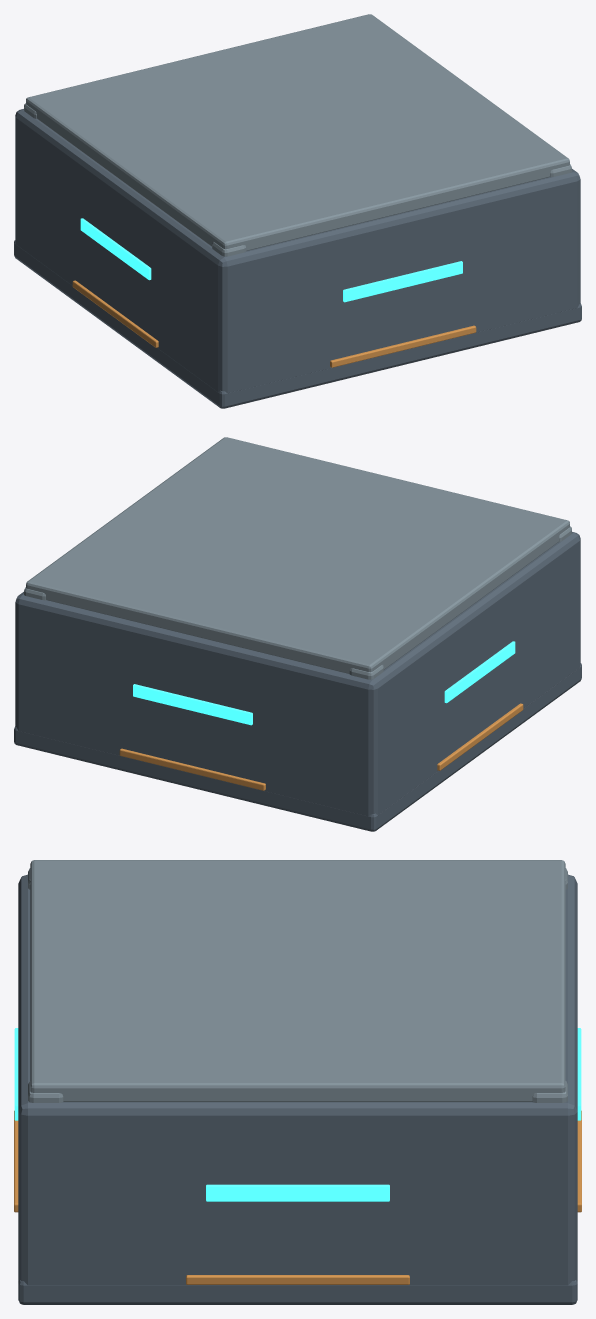
The model's file is arena-core.glb.
3 views of the same model, one above another, from view 1: azimuth 30°, elevation 25°; view 2: azimuth 150°, elevation 25°; view 3: azimuth 270°, elevation 25° (orthographic). The views are drawn at different scales.
Parts seen in each view (by area): view 1: Visual_Merged_ZA_Core_Root_Graphite_Paint, Visual_Merged_ZA_Core_Root_Neutral_Steel, Visual_Merged_ZA_Core_Root_Zero_Cyan_Emissive, Visual_Merged_ZA_Core_Root_Warning_Orange; view 2: Visual_Merged_ZA_Core_Root_Graphite_Paint, Visual_Merged_ZA_Core_Root_Neutral_Steel, Visual_Merged_ZA_Core_Root_Zero_Cyan_Emissive, Visual_Merged_ZA_Core_Root_Warning_Orange; view 3: Visual_Merged_ZA_Core_Root_Neutral_Steel, Visual_Merged_ZA_Core_Root_Graphite_Paint, Visual_Merged_ZA_Core_Root_Zero_Cyan_Emissive, Visual_Merged_ZA_Core_Root_Warning_Orange.
Part boxes in pixels (x1=…): Visual_Merged_ZA_Core_Root_Graphite_Paint: x1=14, y1=109, x2=581, y2=408; Visual_Merged_ZA_Core_Root_Neutral_Steel: x1=24, y1=14, x2=571, y2=256; Visual_Merged_ZA_Core_Root_Zero_Cyan_Emissive: x1=80, y1=218, x2=462, y2=302; Visual_Merged_ZA_Core_Root_Warning_Orange: x1=72, y1=280, x2=476, y2=367; Visual_Merged_ZA_Core_Root_Graphite_Paint: x1=14, y1=532, x2=581, y2=831; Visual_Merged_ZA_Core_Root_Neutral_Steel: x1=24, y1=437, x2=571, y2=679; Visual_Merged_ZA_Core_Root_Zero_Cyan_Emissive: x1=133, y1=641, x2=515, y2=725; Visual_Merged_ZA_Core_Root_Warning_Orange: x1=119, y1=703, x2=523, y2=790; Visual_Merged_ZA_Core_Root_Neutral_Steel: x1=28, y1=860, x2=567, y2=1102; Visual_Merged_ZA_Core_Root_Graphite_Paint: x1=18, y1=874, x2=577, y2=1304; Visual_Merged_ZA_Core_Root_Zero_Cyan_Emissive: x1=14, y1=1028, x2=581, y2=1201; Visual_Merged_ZA_Core_Root_Warning_Orange: x1=14, y1=1110, x2=581, y2=1284.
Bounding box in the file's own units: 7.11 × 3 × 7.11.
